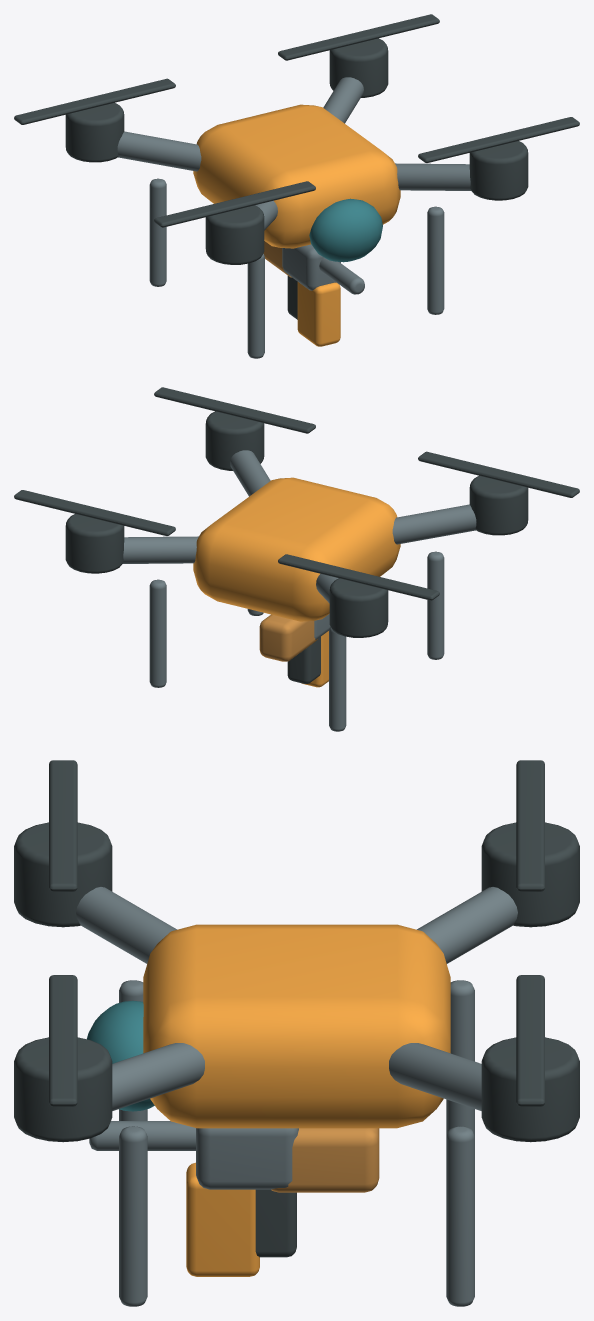
File: flyer.glb
3 views of the same model, one above another, from view 1: azimuth 30°, elevation 25°; view 2: azimuth 150°, elevation 25°; view 3: azimuth 270°, elevation 25° (orthographic). The views are drawn at different scales.
Parts seen in each view (by area): view 1: Flyer fuselage, Flyer sensor, Rotor motor, Rotor motor.002, Rotor motor.001, Rotor motor.003, Magazine.002, Drone arm.001, Drone arm.002, Landing skid.002, Rotor blade, Rotor blade.001 (+7 smaller); view 2: Flyer fuselage, Rotor motor.001, Rotor motor.003, Rotor motor, Rotor motor.002, Drone arm, Stock.002, Drone arm.003, Landing skid.003, Rotor blade, Rotor blade.001, Rotor blade.002 (+6 smaller); view 3: Flyer fuselage, Rotor motor.002, Rotor motor.003, Rotor motor, Rotor motor.001, Magazine.002, Receiver.002, Stock.002, Landing skid.002, Landing skid.003, Drone arm.002, Drone arm.003 (+11 smaller).
Boxes of the visible parts, bbox=[...] form: Flyer fuselage: bbox=[193, 104, 400, 248]; Flyer sensor: bbox=[309, 198, 382, 262]; Rotor motor: bbox=[205, 205, 264, 264]; Rotor motor.002: bbox=[469, 141, 528, 200]; Rotor motor.001: bbox=[65, 102, 124, 162]; Rotor motor.003: bbox=[329, 38, 388, 97]; Magazine.002: bbox=[297, 282, 340, 346]; Drone arm.001: bbox=[117, 131, 201, 171]; Drone arm.002: bbox=[395, 163, 471, 190]; Landing skid.002: bbox=[427, 206, 444, 314]; Rotor blade: bbox=[154, 181, 315, 227]; Rotor blade.001: bbox=[14, 78, 175, 124]; Flyer fuselage: bbox=[193, 477, 400, 621]; Rotor motor.001: bbox=[329, 578, 388, 637]; Rotor motor.003: bbox=[65, 514, 124, 573]; Rotor motor: bbox=[469, 475, 528, 535]; Rotor motor.002: bbox=[205, 411, 264, 470]; Drone arm: bbox=[392, 504, 476, 544]; Stock.002: bbox=[259, 614, 317, 661]; Drone arm.003: bbox=[122, 536, 198, 563]; Landing skid.003: bbox=[149, 579, 166, 687]; Rotor blade: bbox=[418, 451, 579, 497]; Rotor blade.001: bbox=[278, 554, 439, 600]; Rotor blade.002: bbox=[154, 387, 315, 433]; Flyer fuselage: bbox=[143, 924, 450, 1128]; Rotor motor.002: bbox=[14, 1037, 112, 1142]; Rotor motor.003: bbox=[481, 1037, 579, 1142]; Rotor motor: bbox=[14, 822, 112, 927]; Rotor motor.001: bbox=[481, 822, 579, 927]; Magazine.002: bbox=[186, 1162, 259, 1276]; Receiver.002: bbox=[196, 1128, 298, 1189]; Stock.002: bbox=[271, 1128, 379, 1192]; Landing skid.002: bbox=[119, 1126, 147, 1306]; Landing skid.003: bbox=[446, 1126, 474, 1306]; Drone arm.002: bbox=[112, 1043, 204, 1110]; Drone arm.003: bbox=[389, 1043, 481, 1110].
Size of the model in its own units: 1.97 by 0.916 by 1.38.
